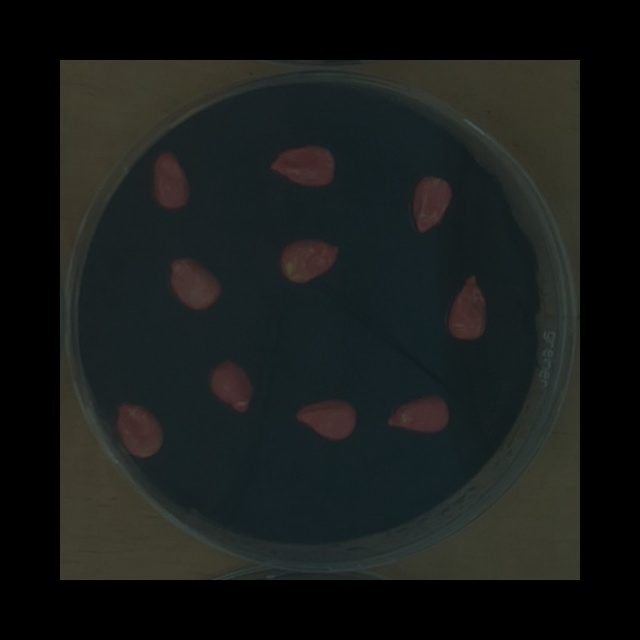Zea mays: (263, 137, 341, 193), (162, 250, 228, 315), (274, 231, 345, 289), (109, 396, 170, 463), (289, 393, 362, 447), (444, 267, 493, 346), (381, 387, 454, 440), (406, 168, 459, 240), (206, 352, 259, 418), (146, 146, 195, 215)
